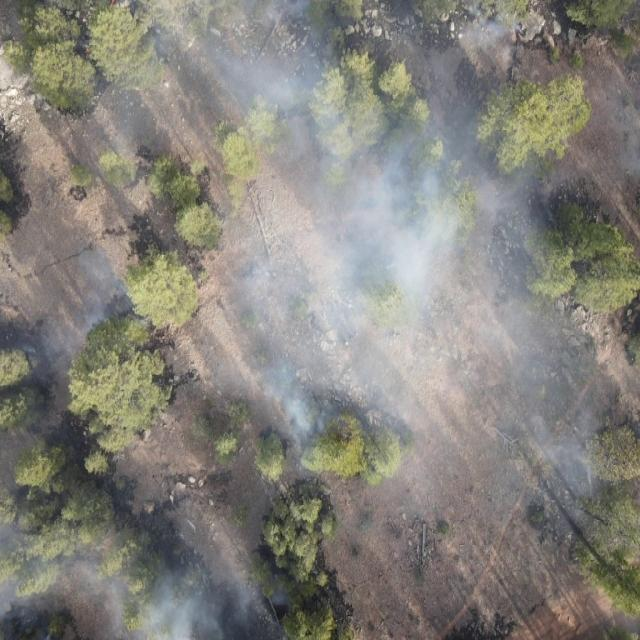fire: (107, 0, 121, 12), (82, 46, 91, 56)
smoke: (98, 0, 520, 192), (216, 192, 480, 456), (478, 197, 604, 504), (0, 504, 283, 640), (38, 252, 136, 361), (610, 86, 640, 182)
